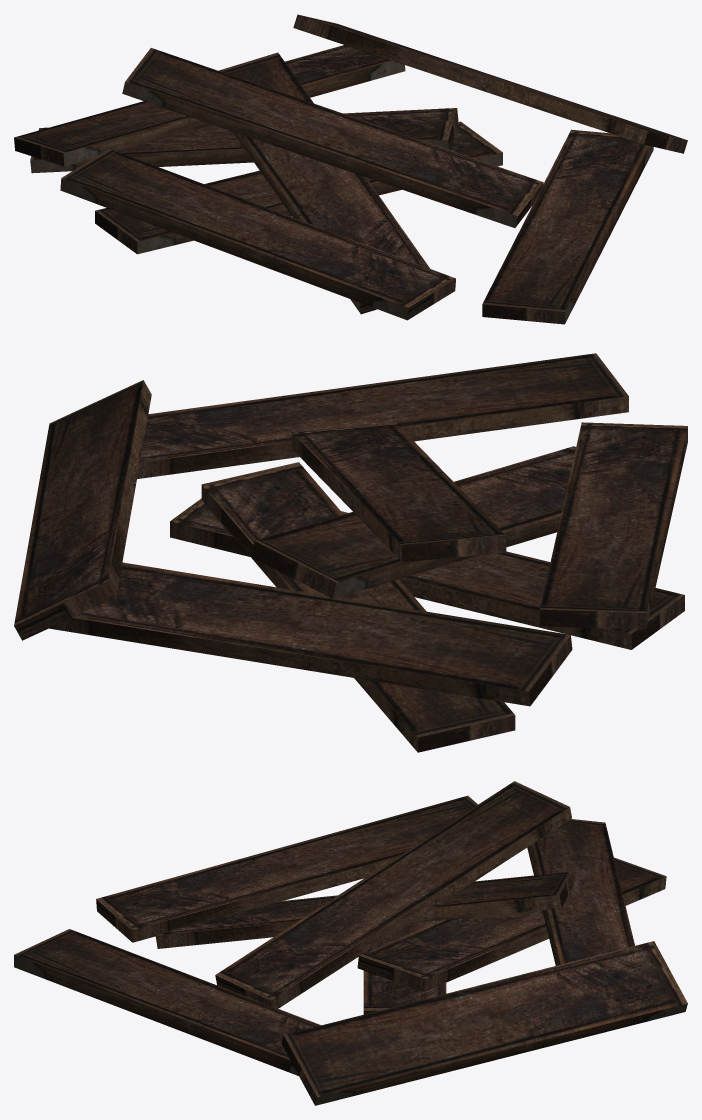
Rendered from Broken Crate.fbx.
3 renders of one model, top to bottom at view 1: azimuth 30°, elevation 25°; view 2: azimuth 150°, elevation 25°; view 3: azimuth 270°, elevation 25°, orthographic. The views are drawn at different scales.
Parts seen in each view (by area): view 1: pasted__pCube1 (×5), pasted__pasted__pCube1 (×2), pCube1; view 2: pasted__pCube1 (×5), pasted__pasted__pCube1 (×2), pCube1; view 3: pasted__pCube1 (×5), pasted__pasted__pCube1 (×2), pCube1.
Part boxes in pixels (x1=…): pasted__pCube1 (×5): x1=14, y1=45, x2=653, y2=324; pasted__pasted__pCube1 (×2): x1=218, y1=14, x2=687, y2=314; pCube1: x1=95, y1=121, x2=502, y2=254; pasted__pCube1 (×5): x1=49, y1=353, x2=687, y2=752; pasted__pasted__pCube1 (×2): x1=14, y1=380, x2=575, y2=640; pCube1: x1=170, y1=498, x2=684, y2=649; pasted__pCube1 (×5): x1=14, y1=781, x2=666, y2=1075; pasted__pasted__pCube1 (×2): x1=155, y1=871, x2=687, y2=1105; pCube1: x1=363, y1=920, x2=446, y2=1014.
Bounding box in the file's own units: 2.26 × 0.4647 × 2.45.
8 materials, 8 textured.
